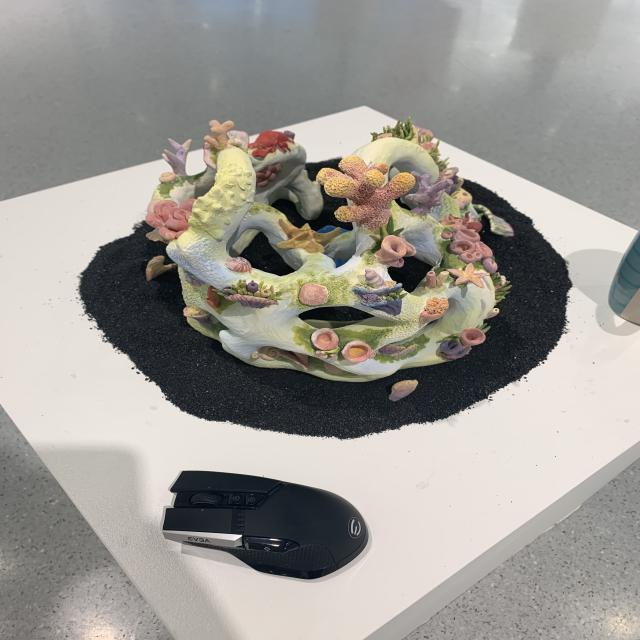Mouse: (158, 465, 374, 587)
